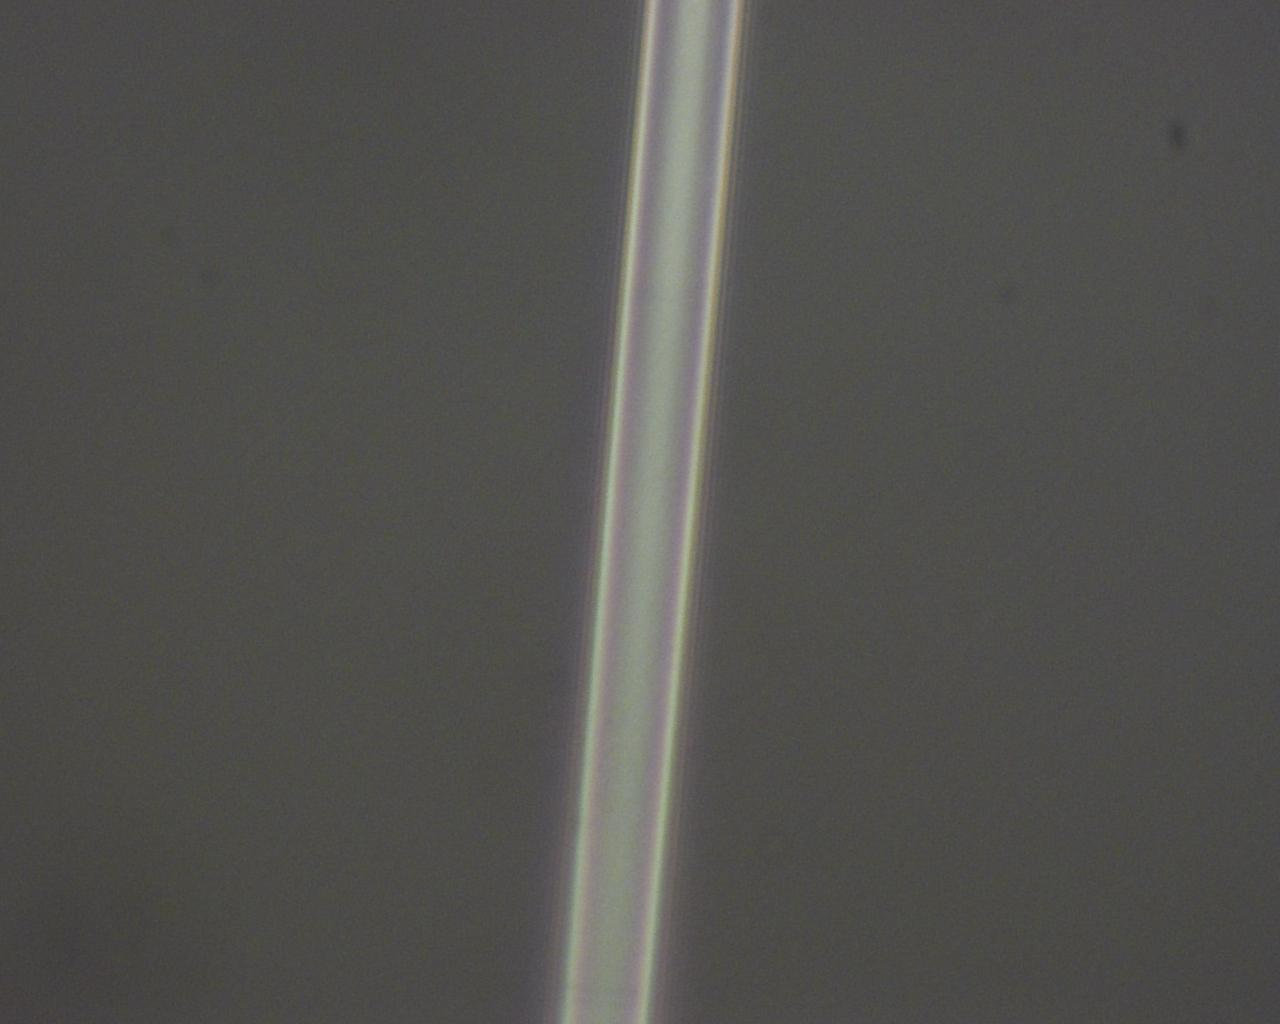fiber: (525, 0, 1151, 593), (445, 761, 1280, 1024)
